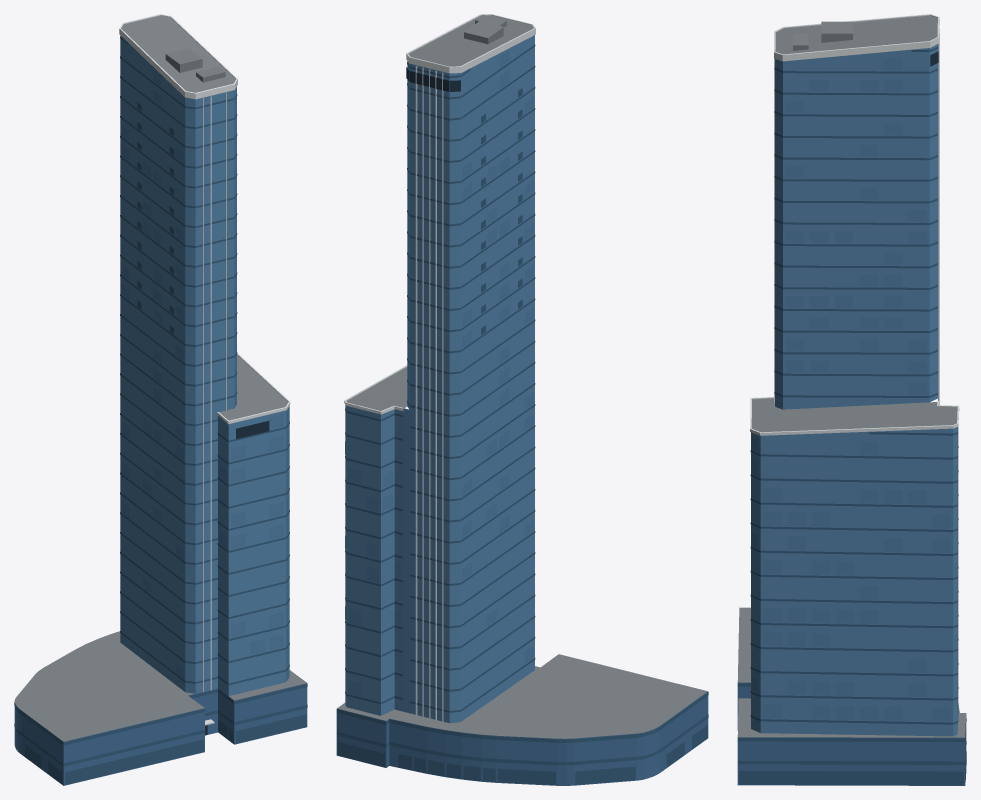
The model's file is stantec-tower-far.glb.
3 renders of one model, left to right at view 1: azimuth 30°, elevation 25°; view 2: azimuth 150°, elevation 25°; view 3: azimuth 270°, elevation 25°, orthographic. The views are drawn at different scales.
Parts seen in each view (by area): view 1: stantec-tower-0-glass, stantec-tower-0-roof, stantec-tower-0-spandrel, stantec-tower-0-podium, stantec-tower-0-glow, stantec-tower-0-fin; view 2: stantec-tower-0-glass, stantec-tower-0-spandrel, stantec-tower-0-roof, stantec-tower-0-podium, stantec-tower-0-fin, stantec-tower-0-glow; view 3: stantec-tower-0-glass, stantec-tower-0-spandrel, stantec-tower-0-glow, stantec-tower-0-roof, stantec-tower-0-podium, stantec-tower-0-fin.
Boxes of the visible parts, box(x1,y1,x2,y2) form: stantec-tower-0-glass: box(120, 35, 289, 695); stantec-tower-0-roof: box(14, 15, 306, 741); stantec-tower-0-spandrel: box(14, 37, 307, 784); stantec-tower-0-podium: box(14, 683, 307, 785); stantec-tower-0-glow: box(121, 70, 289, 677); stantec-tower-0-fin: box(119, 14, 290, 725); stantec-tower-0-glass: box(345, 35, 534, 723); stantec-tower-0-spandrel: box(336, 44, 708, 784); stantec-tower-0-roof: box(337, 14, 707, 738); stantec-tower-0-podium: box(336, 691, 708, 785); stantec-tower-0-fin: box(344, 14, 535, 721); stantec-tower-0-glow: box(345, 50, 533, 696); stantec-tower-0-glass: box(751, 44, 958, 736); stantec-tower-0-spandrel: box(737, 47, 966, 785); stantec-tower-0-glow: box(752, 58, 957, 721); stantec-tower-0-roof: box(737, 15, 966, 737); stantec-tower-0-podium: box(737, 682, 966, 785); stantec-tower-0-fin: box(750, 14, 959, 435).
Size of the model in its own units: 97.6 by 251 by 72.5.
